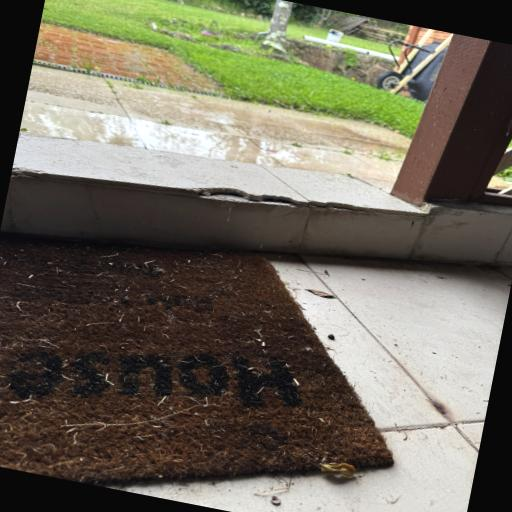step: (0, 135, 425, 257)
